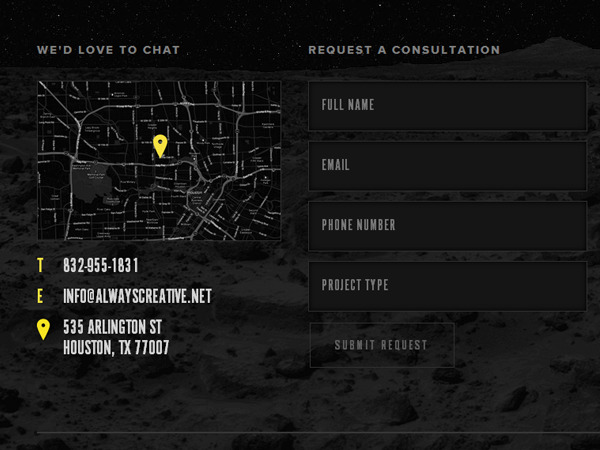button: (309, 323, 455, 369)
field: (305, 80, 588, 133), (307, 140, 588, 191), (307, 200, 587, 251), (308, 261, 587, 312)
